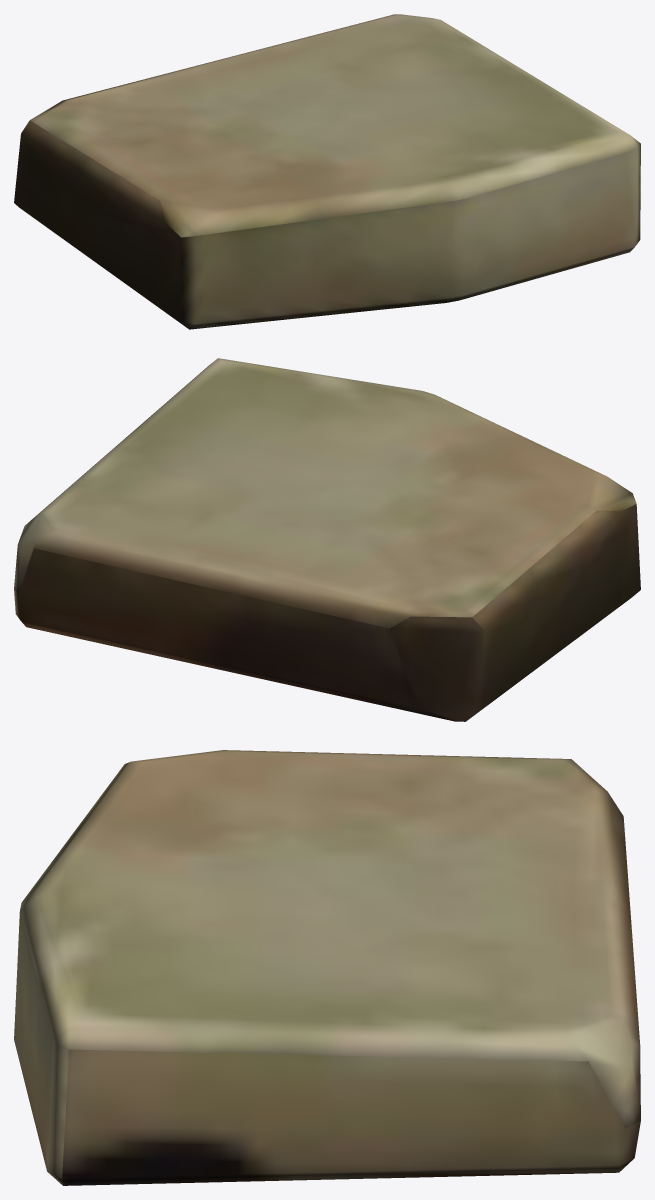
The model's file is RockPack002.fbx.
3 views of the same model, one above another, from view 1: azimuth 30°, elevation 25°; view 2: azimuth 150°, elevation 25°; view 3: azimuth 270°, elevation 25° (orthographic). The views are drawn at different scales.
Parts seen in each view (by area): view 1: RockPack002; view 2: RockPack002; view 3: RockPack002.
Boxes of the visible parts, box(x1,y1,x2,y2) form: RockPack002: box(14, 14, 640, 329); RockPack002: box(14, 358, 640, 721); RockPack002: box(14, 750, 640, 1185).
Bounding box in the file's own units: 144 × 37.57 × 126.
Materials: 1 (1 with a texture image).
